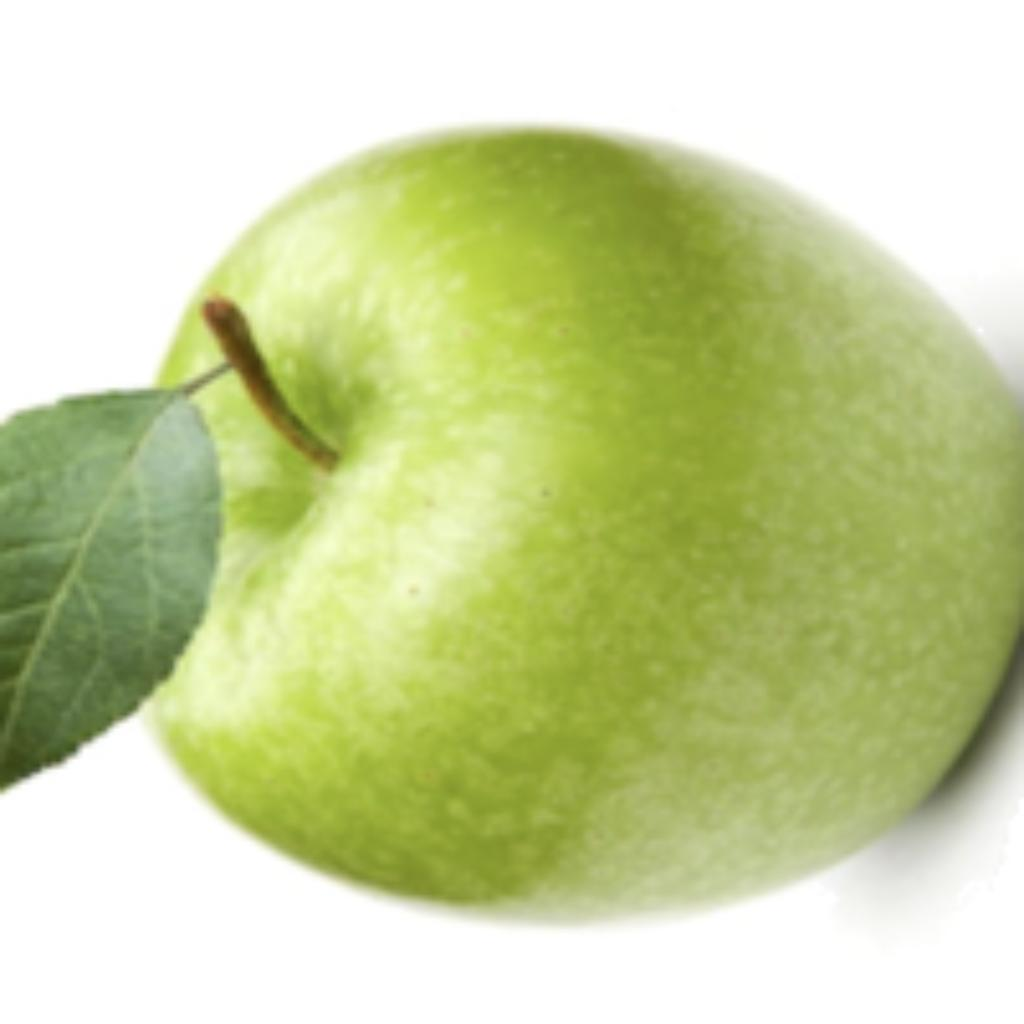apple: (0, 113, 1019, 932)
